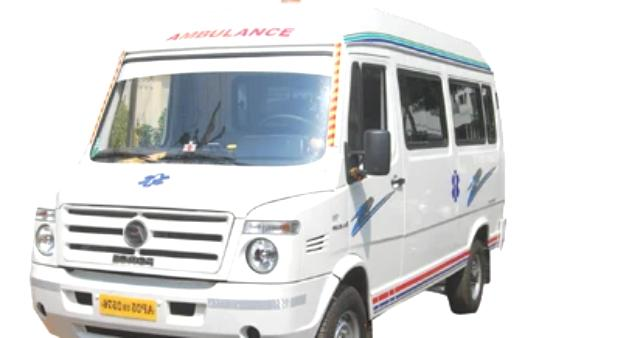ambulance: (26, 0, 510, 338)
